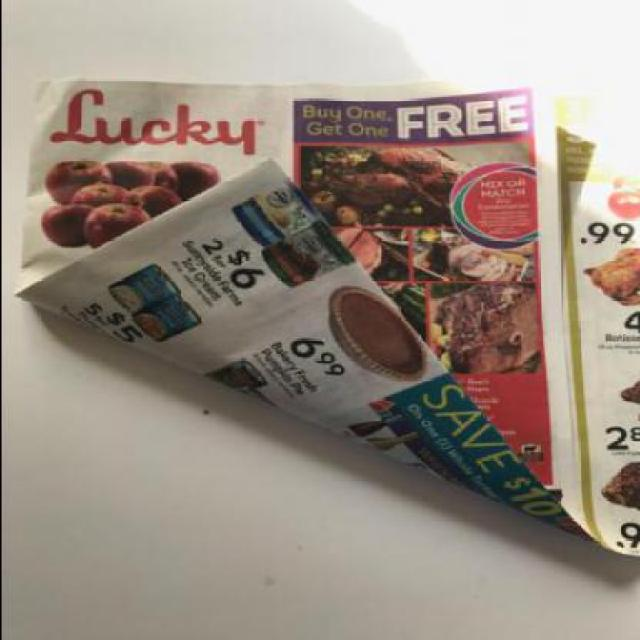PAPER: (15, 80, 640, 554)
